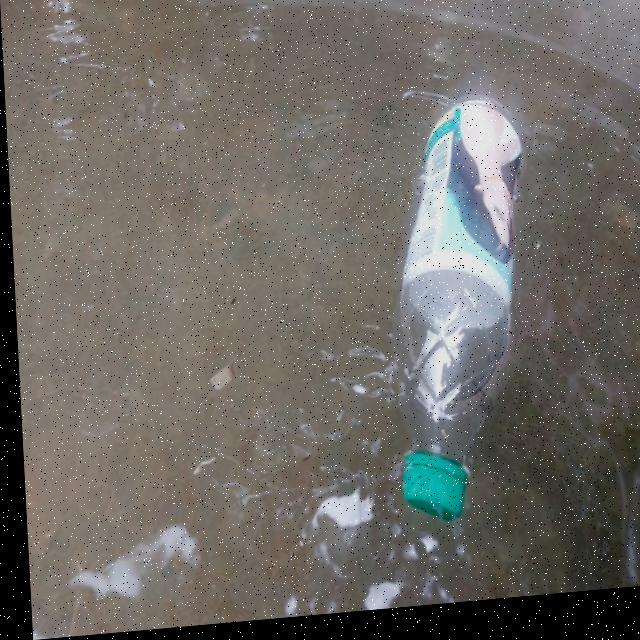waterbottle: (371, 95, 532, 522)
